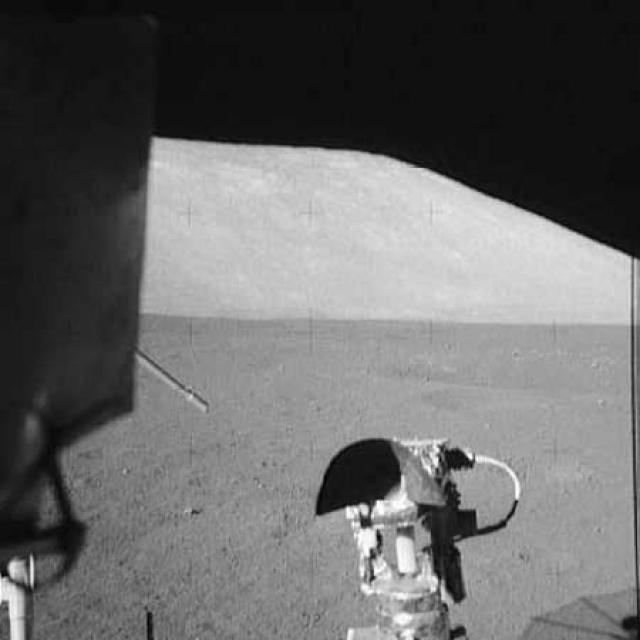artifact: (0, 0, 215, 639), (308, 434, 528, 638)
crater: (327, 338, 635, 401)
